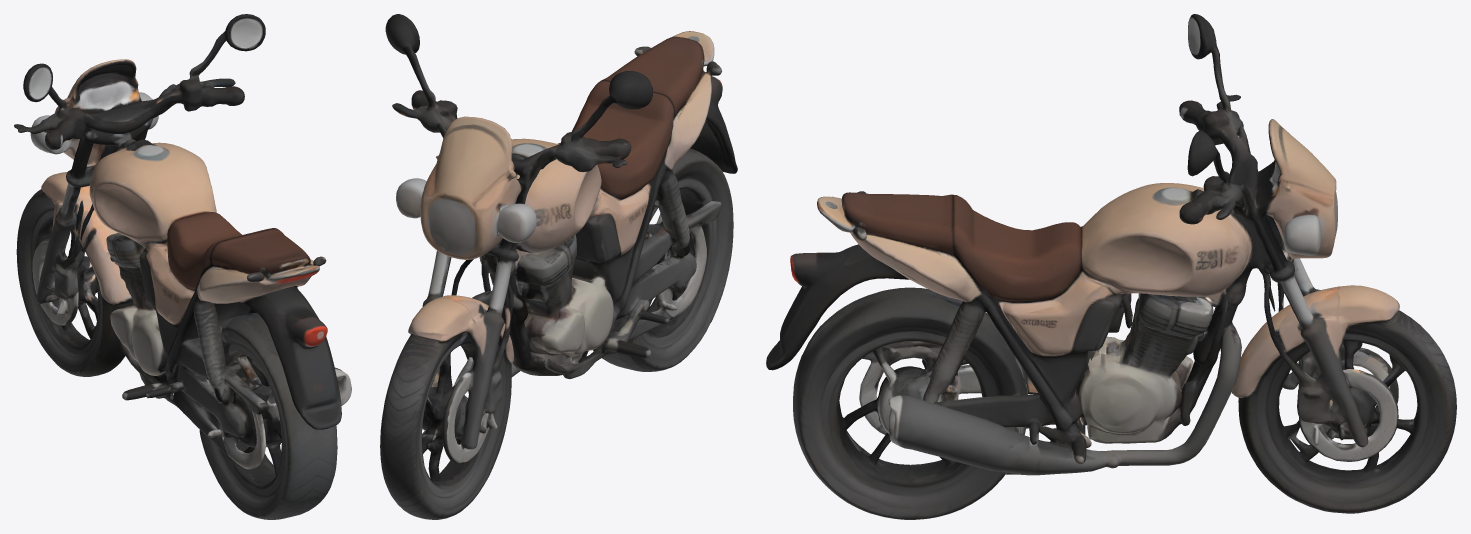
File: Bike.glb
3 renders of one model, left to right at view 1: azimuth 30°, elevation 25°; view 2: azimuth 150°, elevation 25°; view 3: azimuth 270°, elevation 25°, orthographic. The views are drawn at different scales.
Parts seen in each view (by area): view 1: tripo_node_cda20ecc-be06-4328-a03b-7d6e0026262f; view 2: tripo_node_cda20ecc-be06-4328-a03b-7d6e0026262f; view 3: tripo_node_cda20ecc-be06-4328-a03b-7d6e0026262f.
Part boxes in pixels (x1,y1,x2,y2): tripo_node_cda20ecc-be06-4328-a03b-7d6e0026262f: (14,14,351,519); tripo_node_cda20ecc-be06-4328-a03b-7d6e0026262f: (380,14,737,519); tripo_node_cda20ecc-be06-4328-a03b-7d6e0026262f: (766,14,1456,519).
Size of the model in its own units: 0.4411 by 0.6625 by 0.9473.
1 material, 1 textured.
